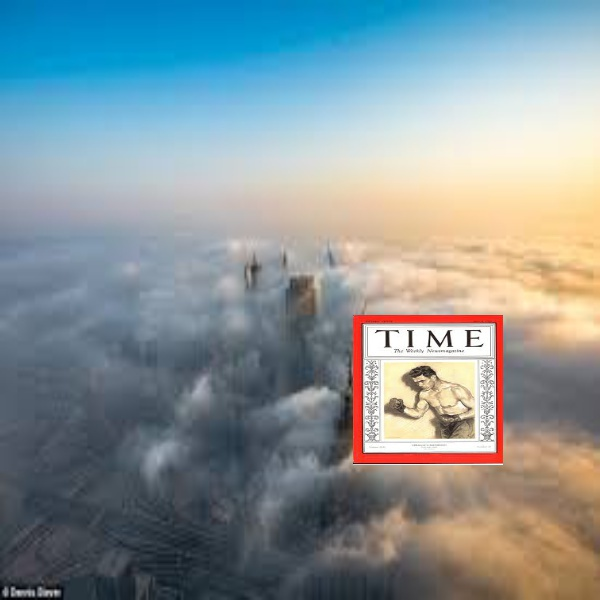time_cover: (354, 302, 507, 457)
